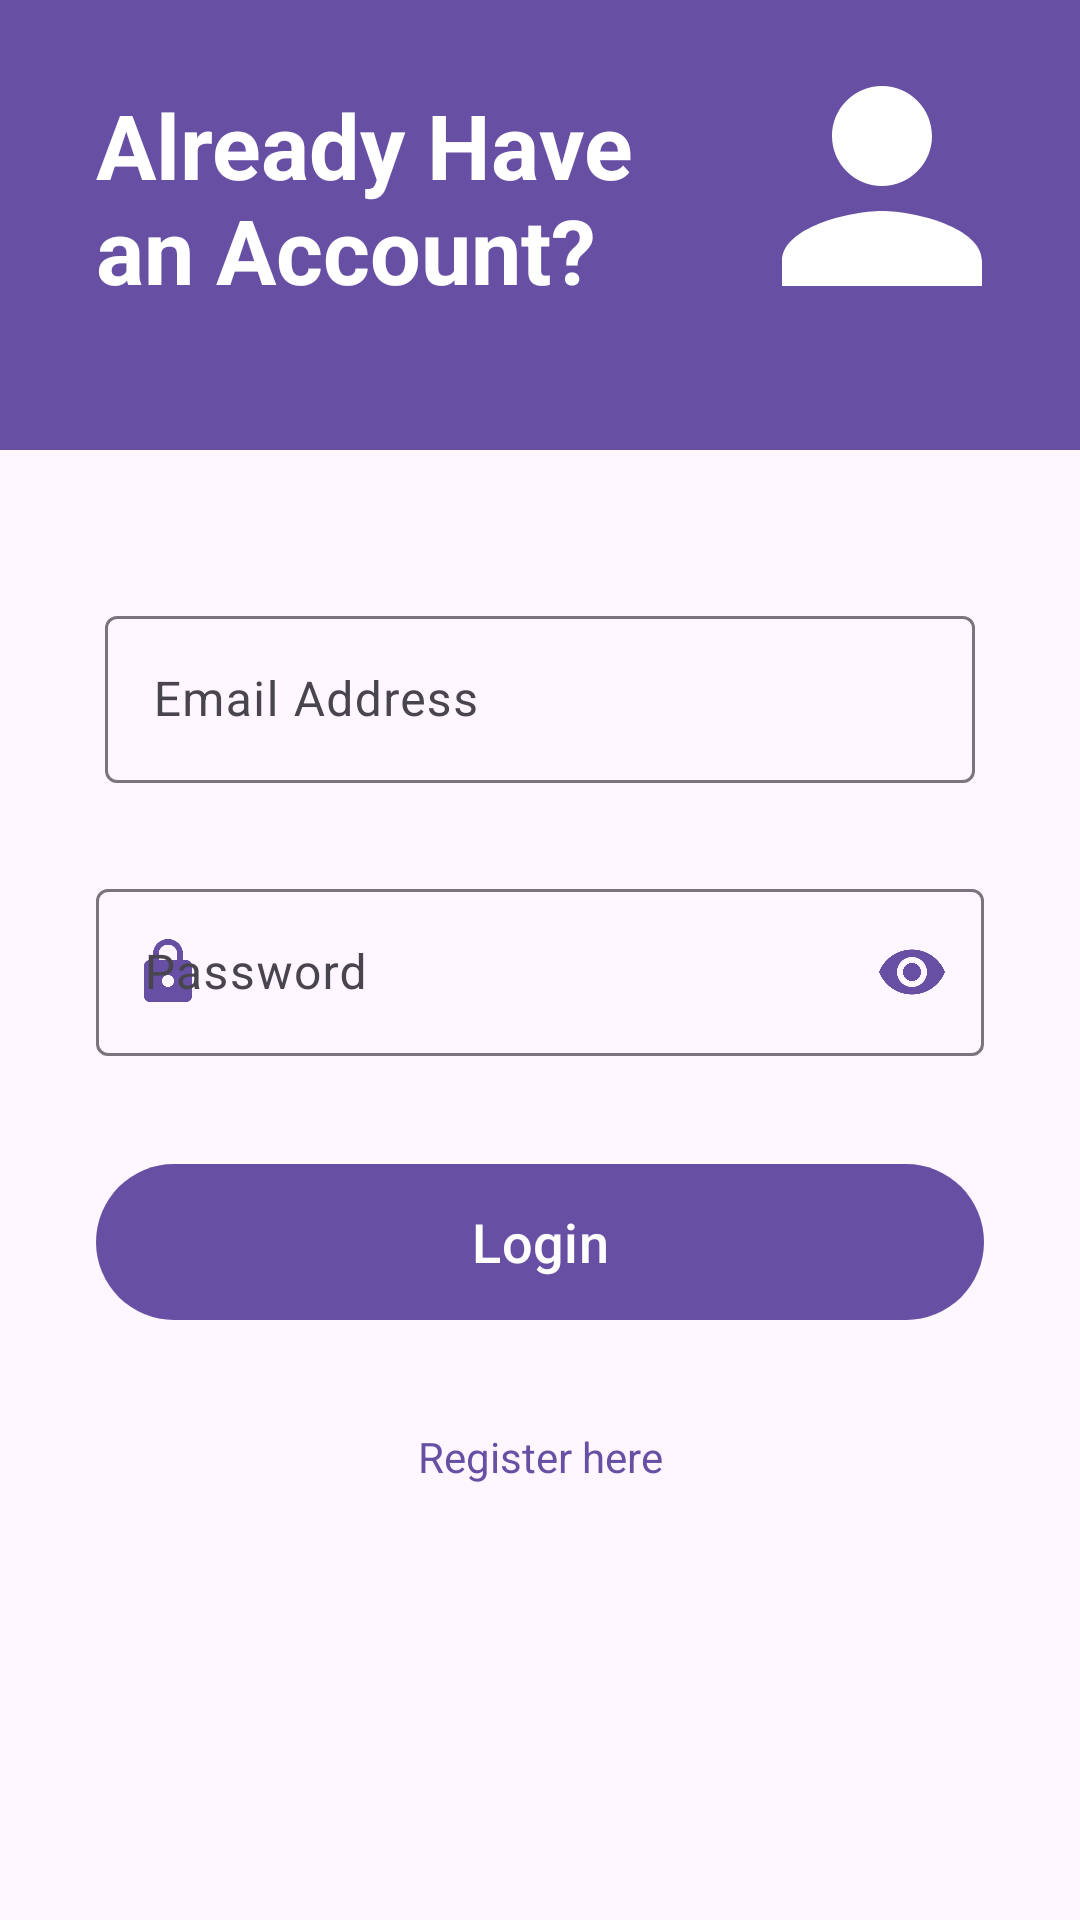

Named icons in this screenshot (1080 × 1920) and their centers, point (x, y):
person: point (882, 186)
